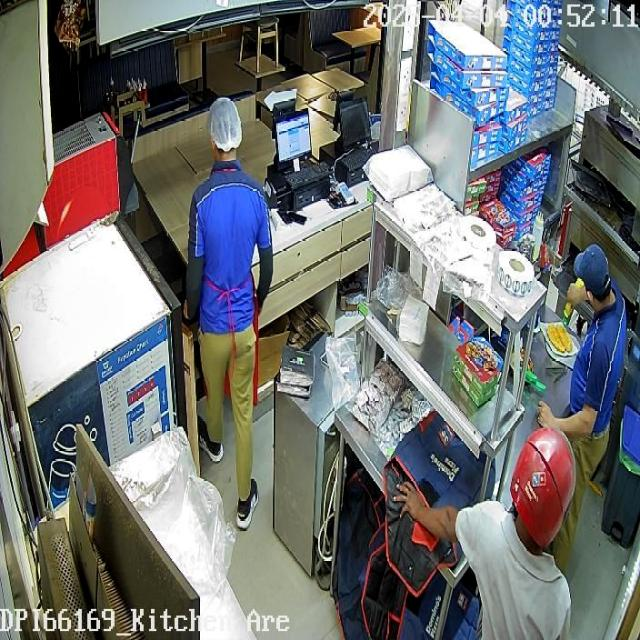helmet: (510, 425, 576, 555)
no_helmet: (573, 243, 615, 311), (207, 96, 243, 163)
